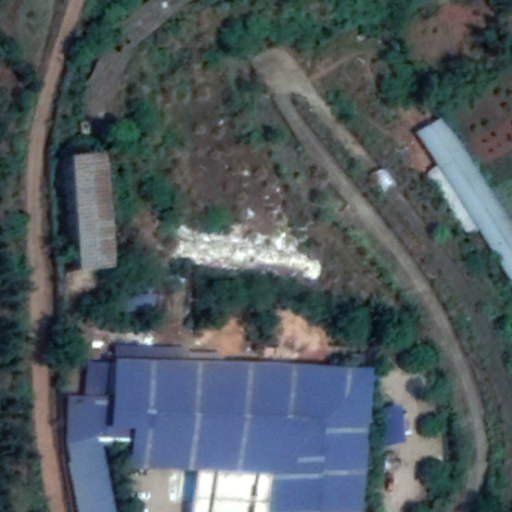msw: (178, 227, 324, 285)
